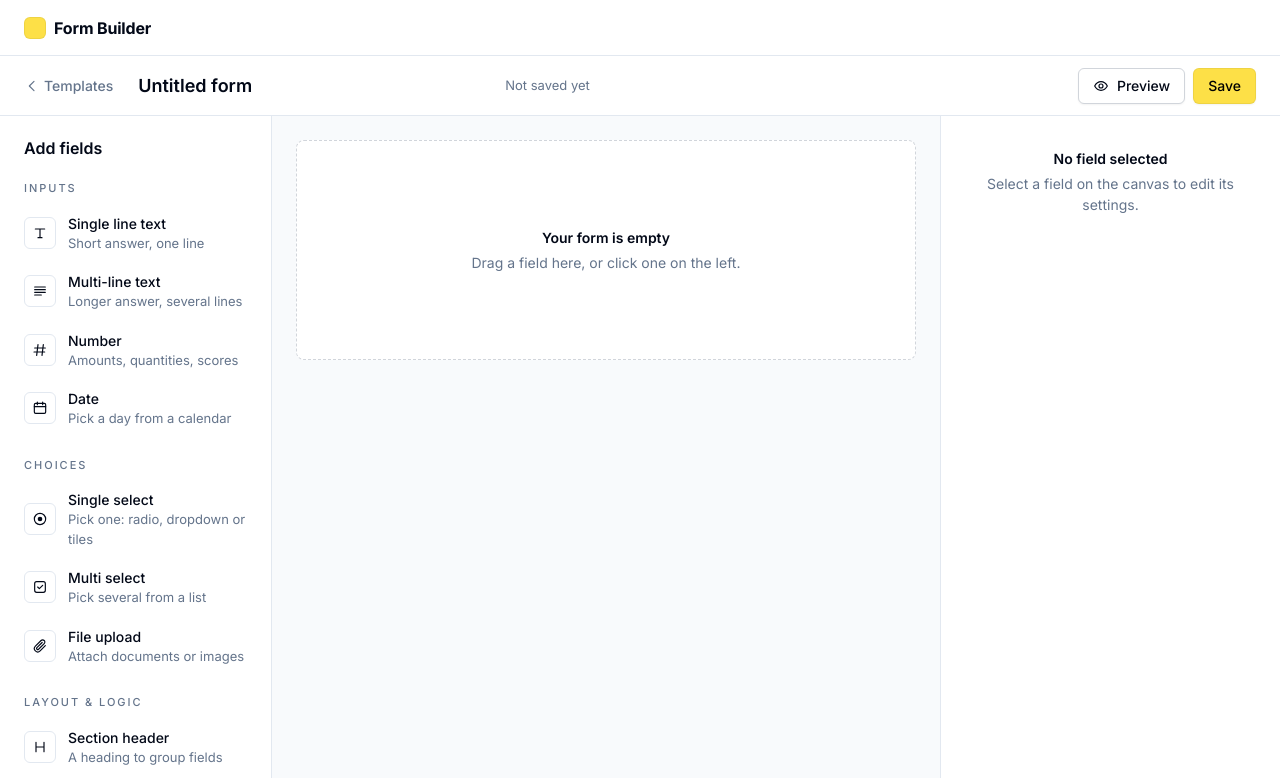
Scenario: deleting the selected field empties the canvas
Step 1. Click the button "Single line text Short answer, one line" → (136, 233), box [16,204,255,261]
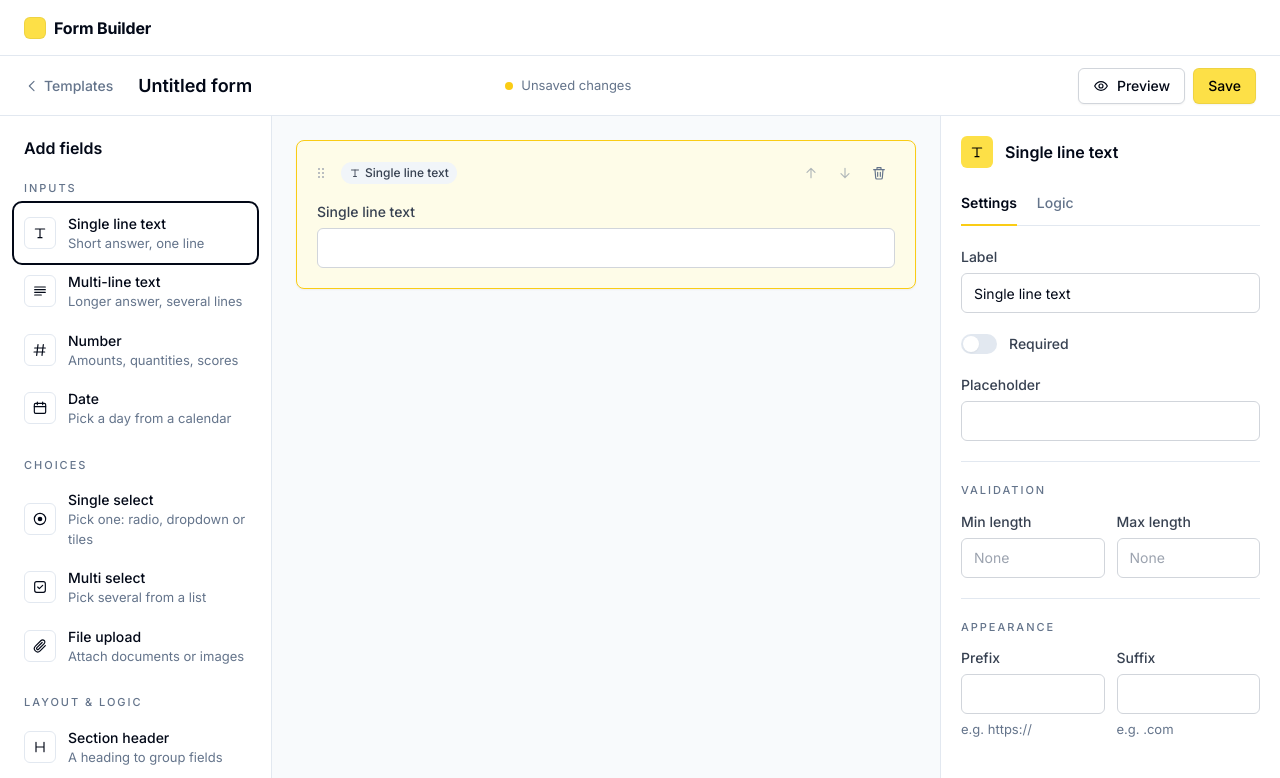
Step 2. Click the button named "Delete Single line text" → (879, 173), box [863,157,895,189]
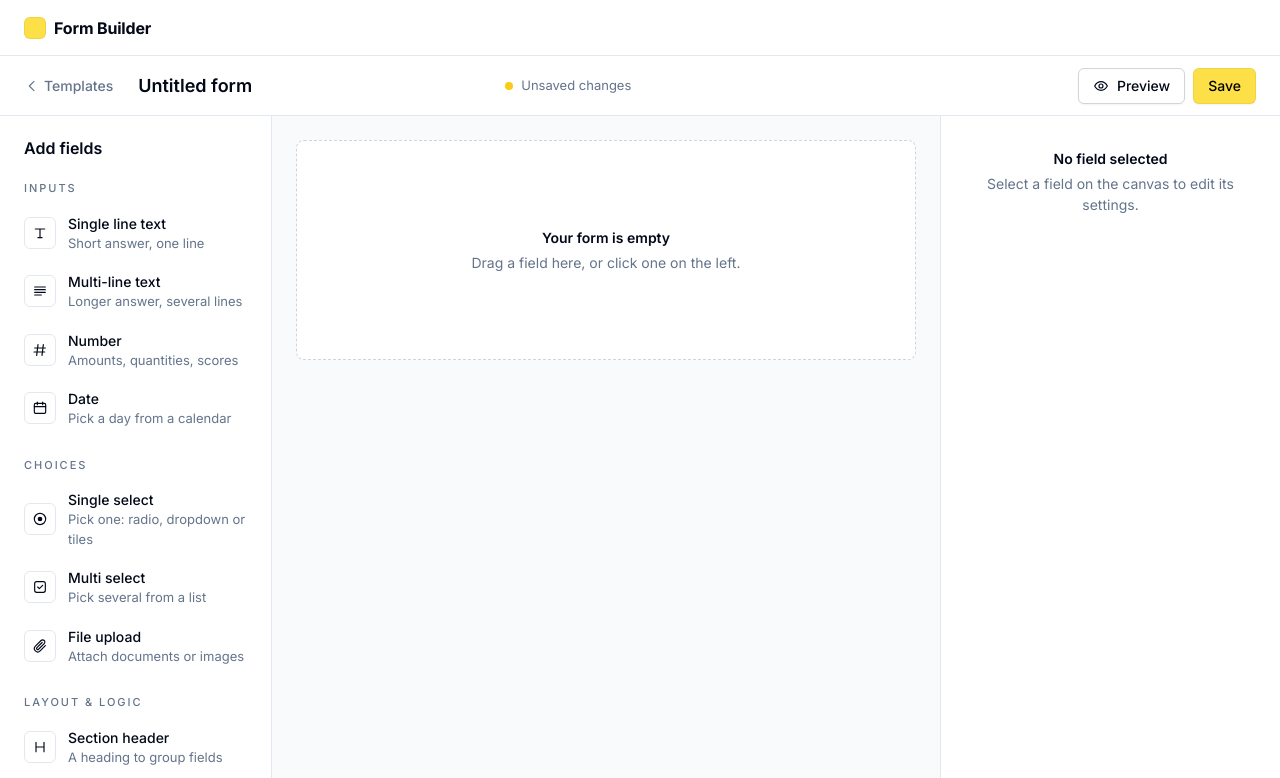
Expected: the text "Your form is empty" is shown, [542,227,670,248]
